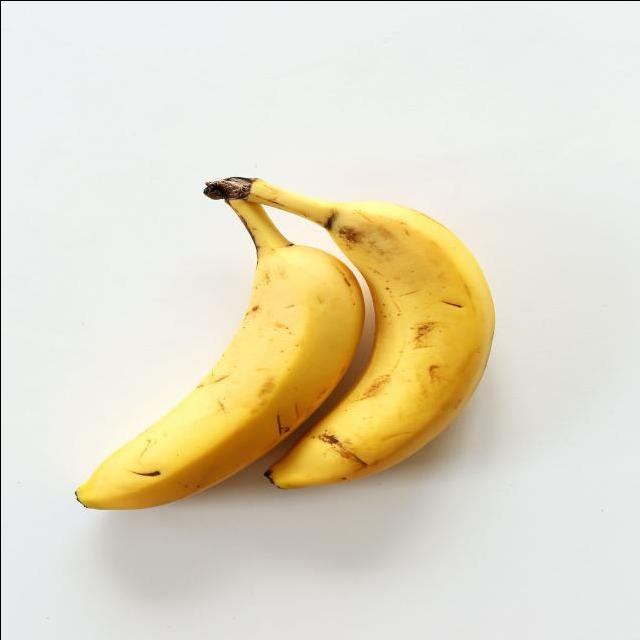banana: (61, 243, 360, 547), (256, 188, 504, 511)
